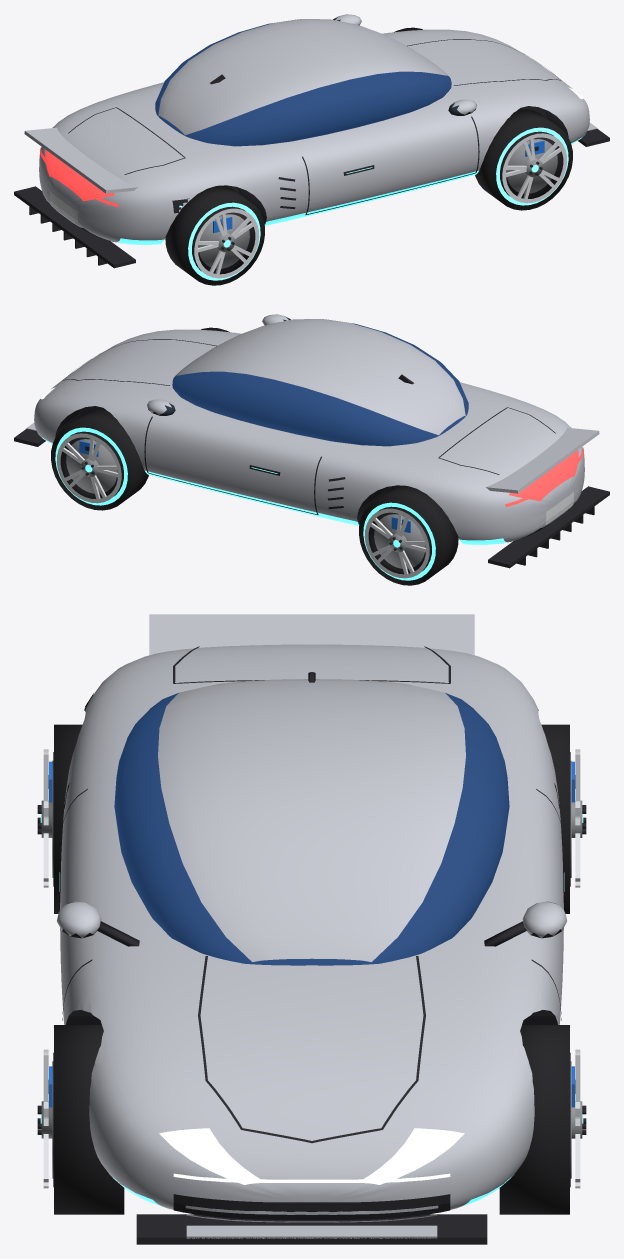
Rendered from city_car.glb.
3 renders of one model, top to bottom at view 1: azimuth 30°, elevation 25°; view 2: azimuth 150°, elevation 25°; view 3: azimuth 270°, elevation 25°, orthographic. The views are drawn at different scales.
Parts seen in each view (by area): view 1: Futuristic_Car_Body, Futuristic_Car_Canopy, Futuristic_Car_Wheel_RL, Futuristic_Car_Wheel_FL, Futuristic_Car_Details, Futuristic_Car_Decals, Futuristic_Car_Mirrors; view 2: Futuristic_Car_Body, Futuristic_Car_Canopy, Futuristic_Car_Wheel_RR, Futuristic_Car_Wheel_FR, Futuristic_Car_Details, Futuristic_Car_Decals, Futuristic_Car_Mirrors; view 3: Futuristic_Car_Body, Futuristic_Car_Canopy, Futuristic_Car_Details, Futuristic_Car_Wheel_FR, Futuristic_Car_Wheel_FL, Futuristic_Car_Decals, Futuristic_Car_Wheel_RL, Futuristic_Car_Wheel_RR, Futuristic_Car_Mirrors.
Boxes of the visible parts, bbox=[...] form: Futuristic_Car_Body: bbox=[39, 29, 589, 244]; Futuristic_Car_Canopy: bbox=[155, 19, 451, 146]; Futuristic_Car_Wheel_RL: bbox=[165, 185, 264, 285]; Futuristic_Car_Wheel_FL: bbox=[475, 109, 572, 210]; Futuristic_Car_Details: bbox=[14, 74, 609, 268]; Futuristic_Car_Decals: bbox=[40, 39, 589, 224]; Futuristic_Car_Mirrors: bbox=[333, 14, 476, 115]; Futuristic_Car_Body: bbox=[34, 329, 584, 544]; Futuristic_Car_Canopy: bbox=[172, 319, 468, 446]; Futuristic_Car_Wheel_RR: bbox=[359, 485, 458, 585]; Futuristic_Car_Wheel_FR: bbox=[51, 409, 148, 510]; Futuristic_Car_Details: bbox=[14, 374, 609, 568]; Futuristic_Car_Decals: bbox=[34, 339, 583, 524]; Futuristic_Car_Mirrors: bbox=[147, 314, 290, 415]; Futuristic_Car_Body: bbox=[60, 644, 563, 1220]; Futuristic_Car_Canopy: bbox=[114, 679, 509, 965]; Futuristic_Car_Details: bbox=[136, 614, 487, 1244]; Futuristic_Car_Wheel_FR: bbox=[499, 1025, 586, 1214]; Futuristic_Car_Wheel_FL: bbox=[37, 1025, 124, 1214]; Futuristic_Car_Decals: bbox=[59, 646, 564, 1222]; Futuristic_Car_Wheel_RL: bbox=[37, 724, 82, 913]; Futuristic_Car_Wheel_RR: bbox=[541, 724, 586, 913]; Futuristic_Car_Mirrors: bbox=[57, 901, 566, 946].
Size of the model in its own units: 20.56 by 6.09 by 9.71.
